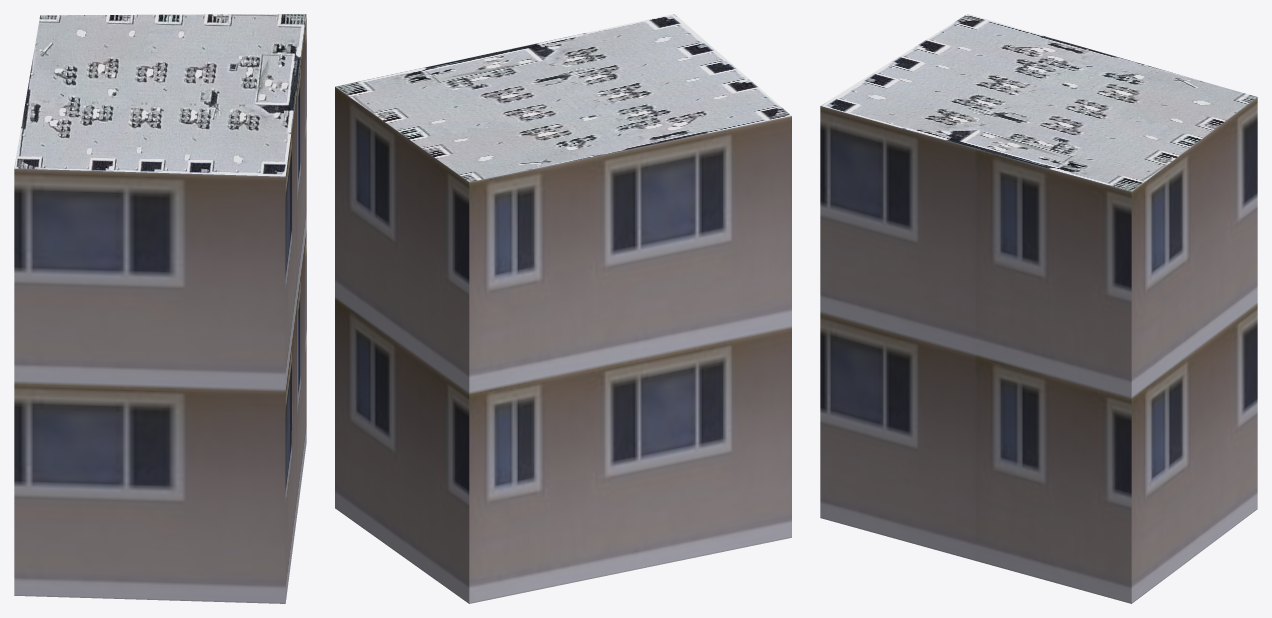
File: ResTex__1903.fbx
3 views of the same model, side by side, from view 1: azimuth 30°, elevation 25°; view 2: azimuth 150°, elevation 25°; view 3: azimuth 270°, elevation 25° (orthographic). The views are drawn at different scales.
Parts seen in each view (by area): view 1: CityEngineMaterial_21_m, CityEngineMaterial_m; view 2: CityEngineMaterial_21_m, CityEngineMaterial_m; view 3: CityEngineMaterial_21_m, CityEngineMaterial_m.
Part boxes in pixels (<box>): CityEngineMaterial_21_m: <box>14,16,306,603</box>; CityEngineMaterial_m: <box>14,14,306,176</box>; CityEngineMaterial_21_m: <box>335,87,791,603</box>; CityEngineMaterial_m: <box>335,14,791,182</box>; CityEngineMaterial_21_m: <box>820,97,1257,603</box>; CityEngineMaterial_m: <box>820,14,1257,191</box>.
Size of the model in its own units: 5.55 by 6 by 5.77.
Materials: 2 (2 with a texture image).
